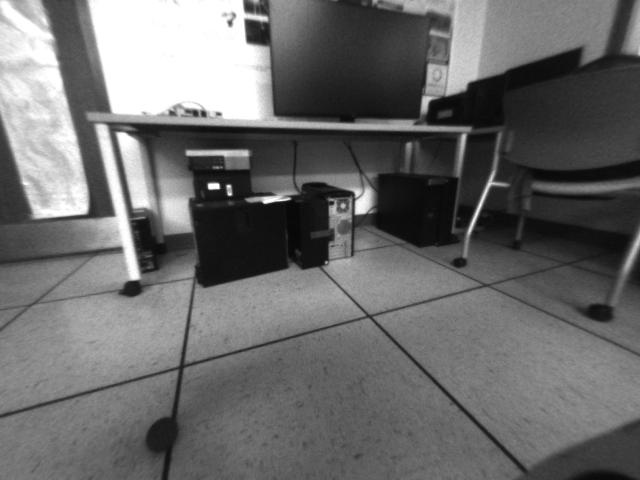dogtoy: (132, 410, 192, 458)
